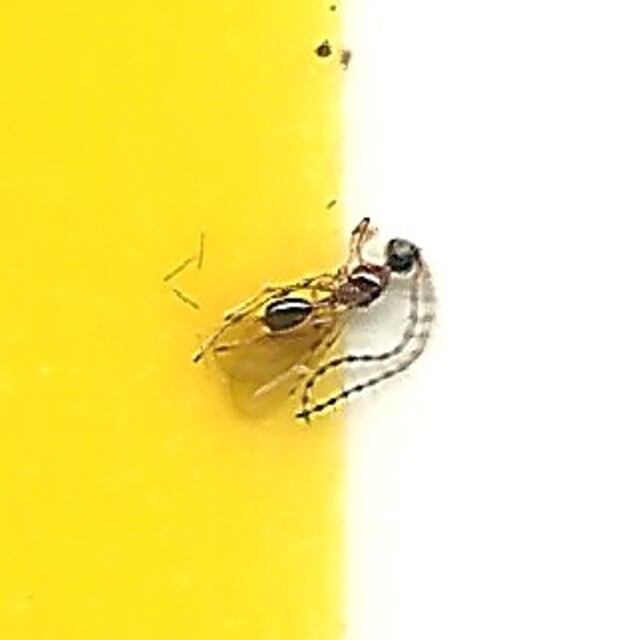Hymenoptera: (199, 218, 441, 422)
